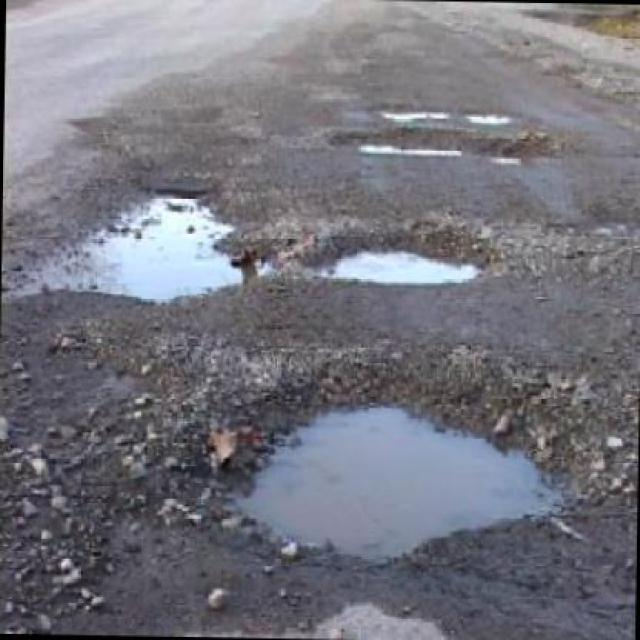pothole: (178, 343, 605, 572), (73, 179, 269, 307), (295, 224, 490, 287), (326, 126, 554, 169), (368, 102, 528, 123)
